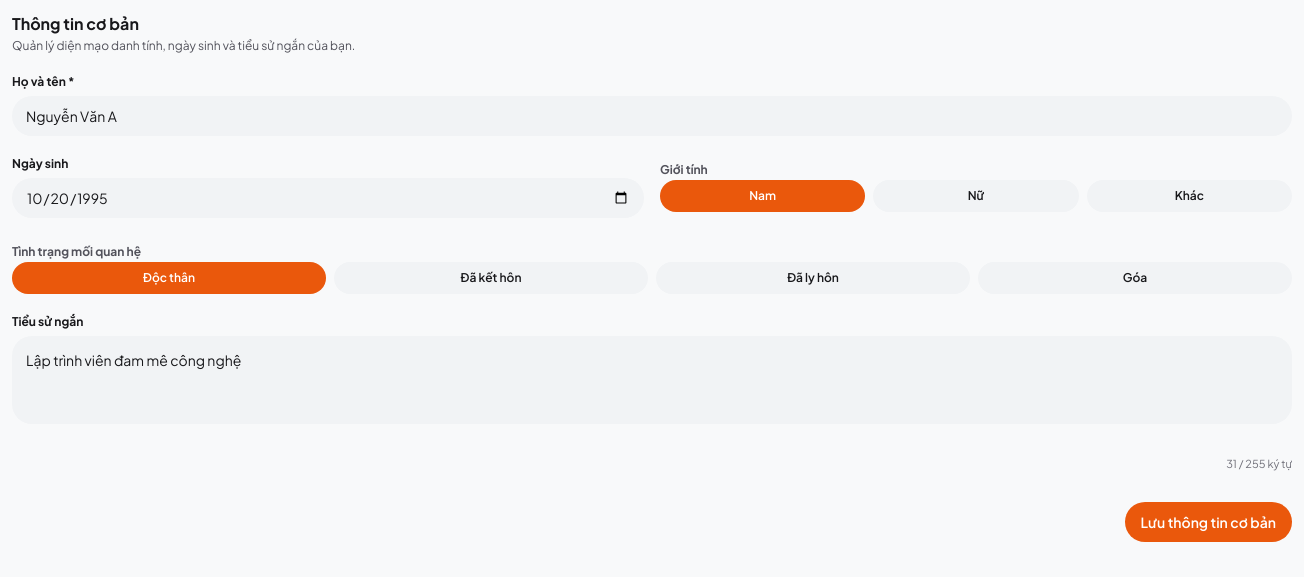
Scenario: PR #26: Profile Multi-Flow UX Components › BasicInfoFlow › displays validation error when full name is empty
The width and height of the screenshot is (1304, 577).
Clear the field showing "Nguyễn Văn A" at (652, 116), box [12,96,1292,136]
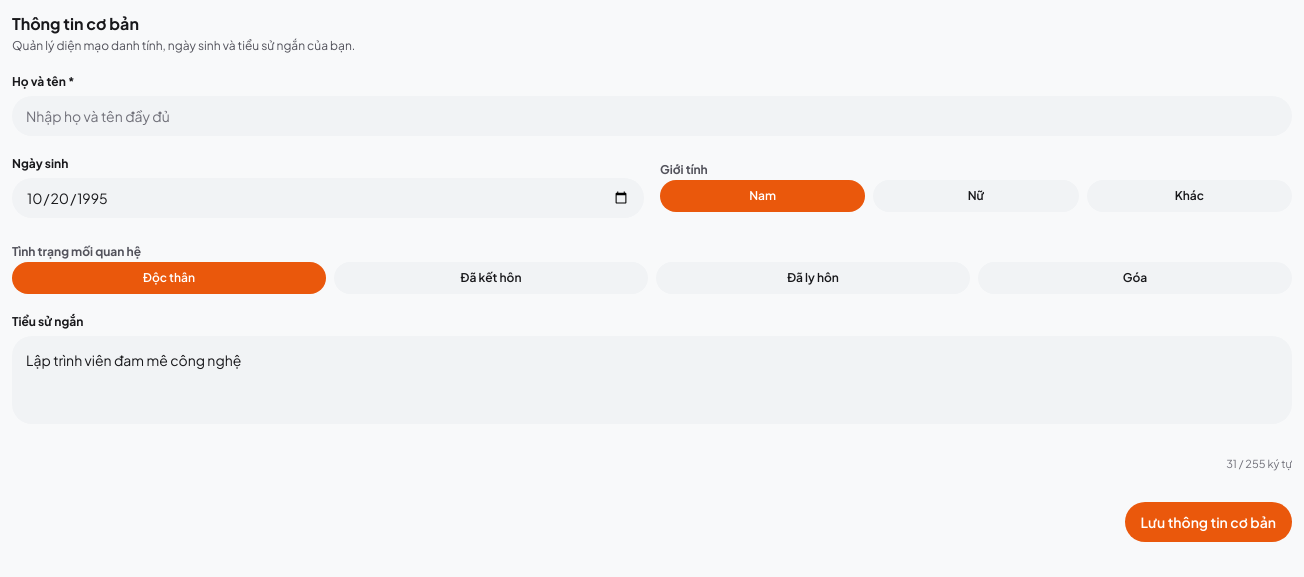
Leave the field showing "Nguyễn Văn A", box [12,96,1292,136]
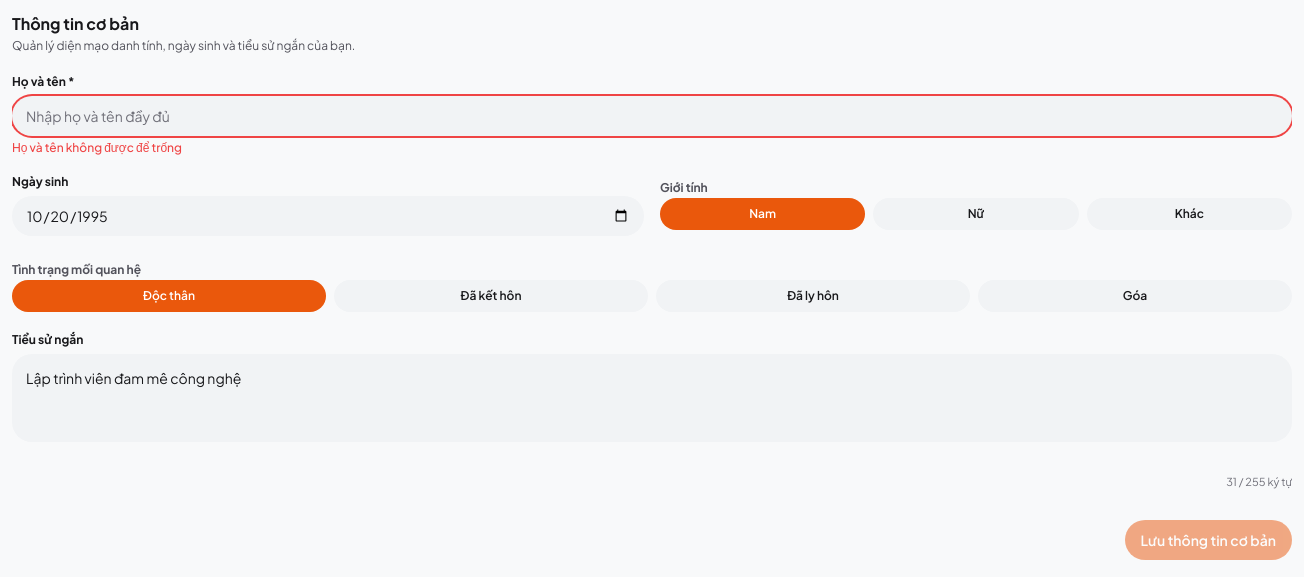
expect the text "Họ và tên không được để trống" is shown: met, box [12,140,182,155]
